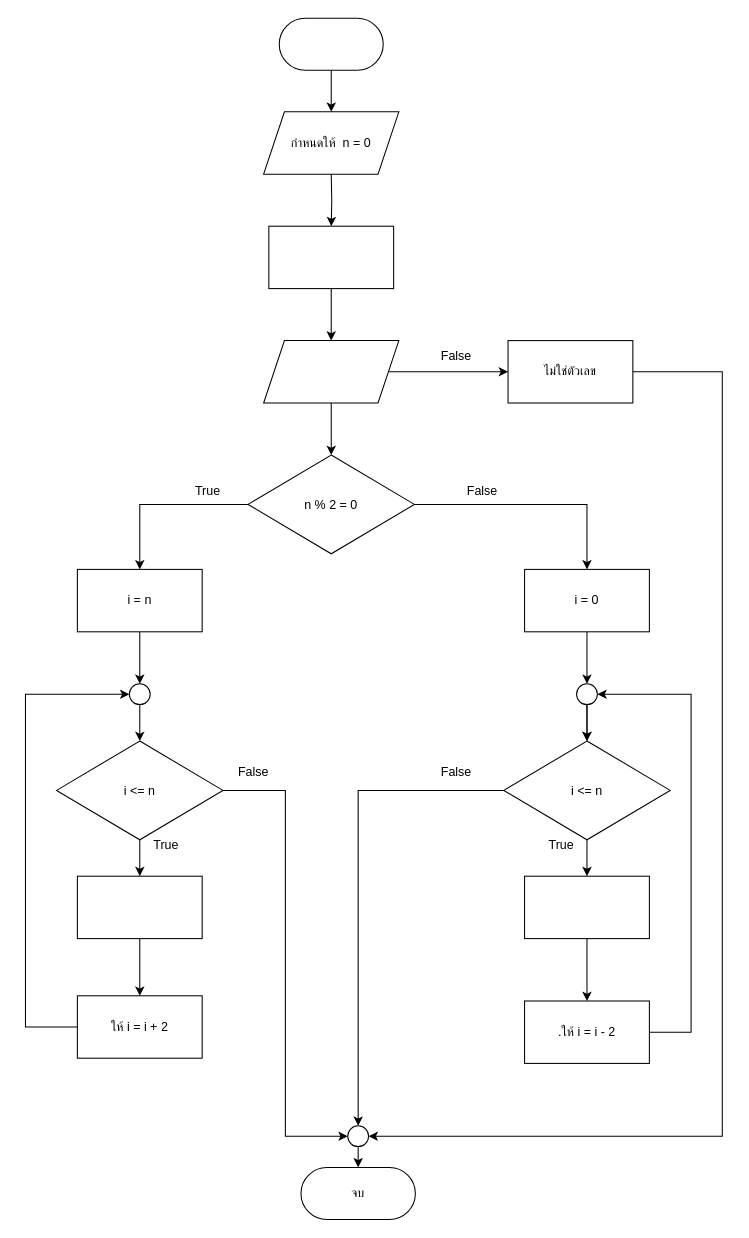
The diagram is 749 pixels wide and 1238 high, and some of its shapes have lost their labels. The centre of each missing label's shape, as x and y in pixels:
เริ่มต้น: the point at 330,43
แสดงตัวเลขคี่: the point at 139,907
แสดงตัวเลขคู่: the point at 586,907
ใช่ตัวเลขหรือไม่: the point at 331,371
ให้ n รับค่าตัวแปร: the point at 331,257
